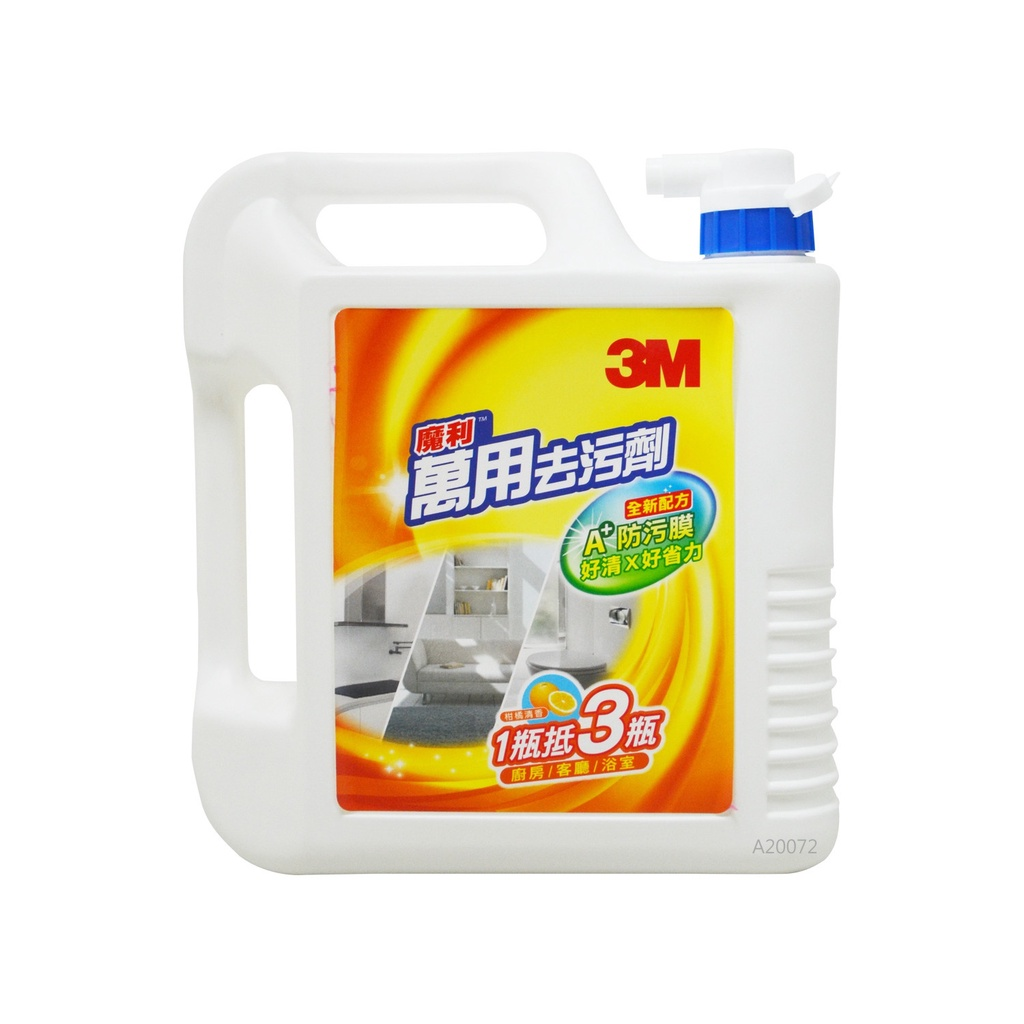cleaner: (158, 128, 874, 894)
